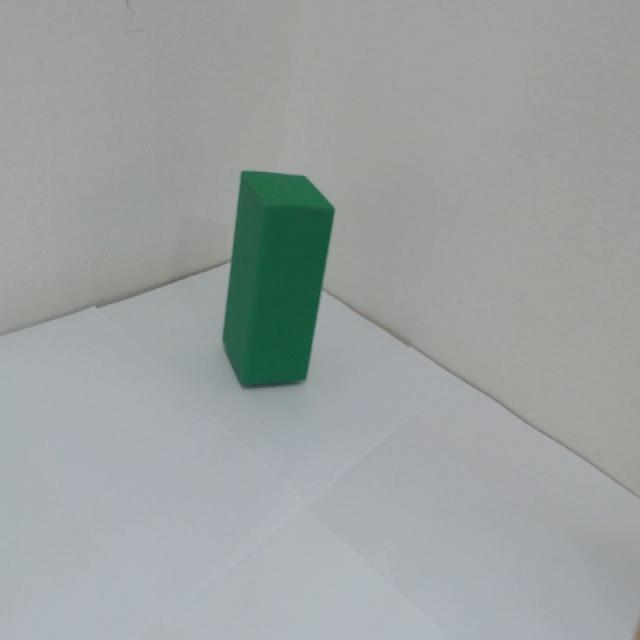cube: (202, 129, 386, 473)
